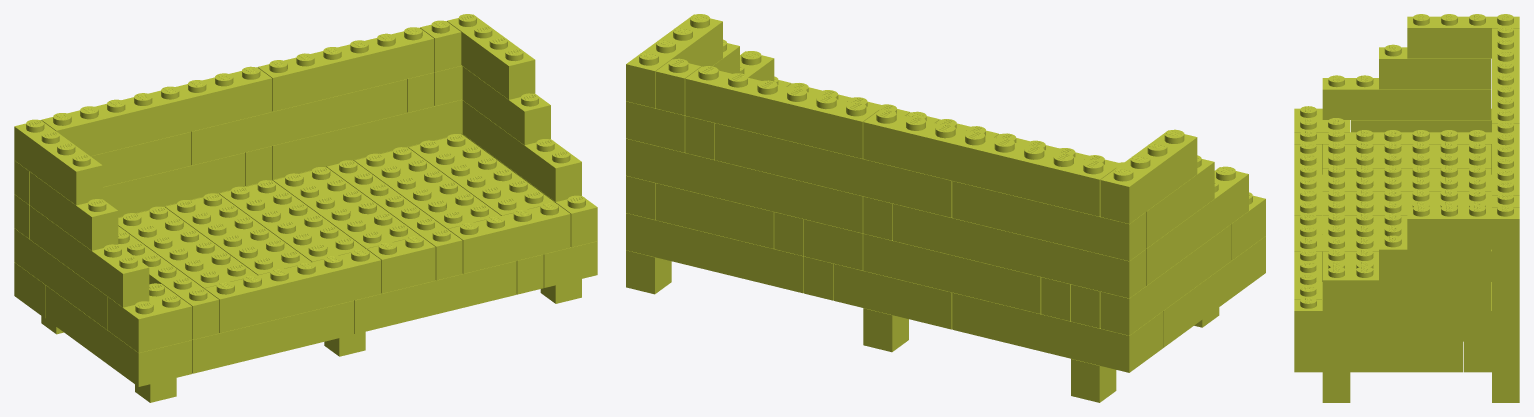
The model's file is brickgpt_cf206c2c_3_a_basic_sofa_seed0.glb.
The picture shows the model from 3 angles, left to right: view 1: azimuth 30°, elevation 25°; view 2: azimuth 150°, elevation 25°; view 3: azimuth 270°, elevation 25°; orthographic projection. The views are drawn at different scales.
Parts seen in each view (by area): view 1: 00052_3008.DAT, 00033_3009.DAT, 00051_3009.DAT, 00046_3008.DAT, 00039_3008.DAT, 00013_2456.DAT, 00017_2456.DAT, 00024_3010.DAT, 00041_3008.DAT, 00019_2456.DAT, 00021_2456.DAT, 00023_2456.DAT (+27 smaller); view 2: 00052_3008.DAT, 00051_3009.DAT, 00041_3008.DAT, 00039_3008.DAT, 00046_3008.DAT, 00018_2456.DAT, 00047_3009.DAT, 00031_3009.DAT, 00009_2456.DAT, 00053_3010.DAT, 00036_3009.DAT, 00022_3010.DAT (+23 smaller); view 3: 00020_3008.DAT, 00038_3009.DAT, 00042_3009.DAT, 00007_2456.DAT, 00049_3010.DAT, 00032_2456.DAT, 00030_2456.DAT, 00053_3010.DAT, 00043_3010.DAT, 00048_3010.DAT, 00029_2456.DAT, 00052_3008.DAT (+16 smaller).
Part boxes in pixels (box(x1,y1,x2,y2)): 00052_3008.DAT: box(41, 66, 271, 156); 00033_3009.DAT: box(204, 248, 381, 332); 00051_3009.DAT: box(257, 27, 434, 111); 00046_3008.DAT: box(191, 79, 407, 165); 00039_3008.DAT: box(272, 99, 462, 179); 00013_2456.DAT: box(354, 261, 516, 334); 00017_2456.DAT: box(192, 300, 354, 373); 00024_3010.DAT: box(448, 202, 570, 273); 00041_3008.DAT: box(14, 152, 244, 238); 00019_2456.DAT: box(45, 285, 191, 386); 00021_2456.DAT: box(408, 134, 554, 215); 00023_2456.DAT: box(354, 147, 500, 229); 00052_3008.DAT: box(863, 109, 1116, 216); 00051_3009.DAT: box(685, 66, 878, 158); 00041_3008.DAT: box(893, 203, 1145, 298); 00039_3008.DAT: box(626, 138, 863, 233); 00046_3008.DAT: box(715, 123, 952, 217); 00018_2456.DAT: box(952, 292, 1163, 372); 00047_3009.DAT: box(952, 181, 1145, 261); 00031_3009.DAT: box(863, 233, 1041, 313); 00009_2456.DAT: box(626, 213, 803, 293); 00053_3010.DAT: box(1100, 129, 1197, 223); 00036_3009.DAT: box(1100, 224, 1231, 335); 00022_3010.DAT: box(655, 183, 774, 248); 00020_3008.DAT: box(1294, 297, 1519, 341); 00038_3009.DAT: box(1322, 266, 1491, 310); 00042_3009.DAT: box(1322, 75, 1491, 119); 00007_2456.DAT: box(1294, 341, 1462, 372); 00049_3010.DAT: box(1407, 205, 1519, 249); 00032_2456.DAT: box(1322, 142, 1491, 168); 00030_2456.DAT: box(1322, 165, 1491, 191); 00053_3010.DAT: box(1407, 14, 1519, 58); 00043_3010.DAT: box(1379, 235, 1491, 280); 00048_3010.DAT: box(1379, 44, 1491, 89); 00029_2456.DAT: box(1322, 189, 1491, 215); 00052_3008.DAT: box(1492, 26, 1519, 123).
Bounding box in the file's own units: 0.1358 × 0.0591 × 0.0638.
